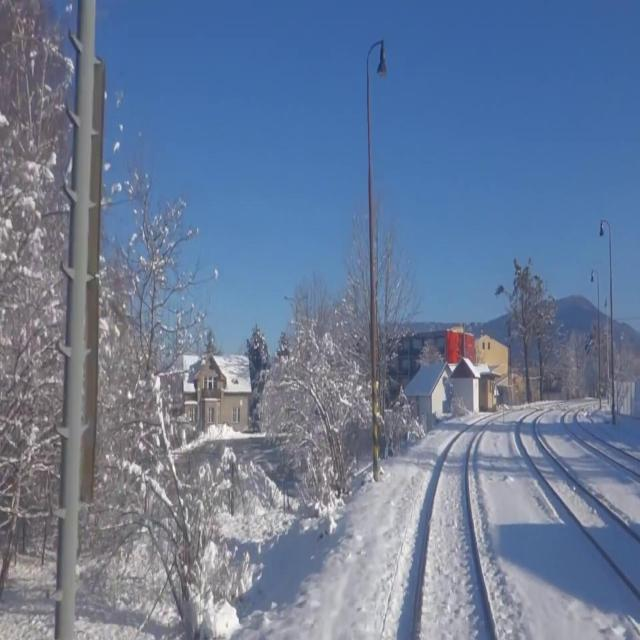rail-track: (522, 416, 640, 588), (421, 426, 493, 639), (566, 409, 640, 471)
